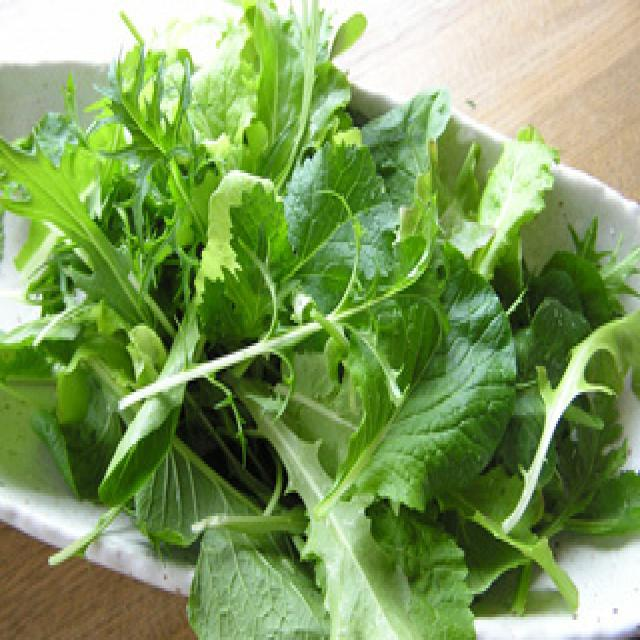蔬菜料理: (10, 23, 638, 634)
